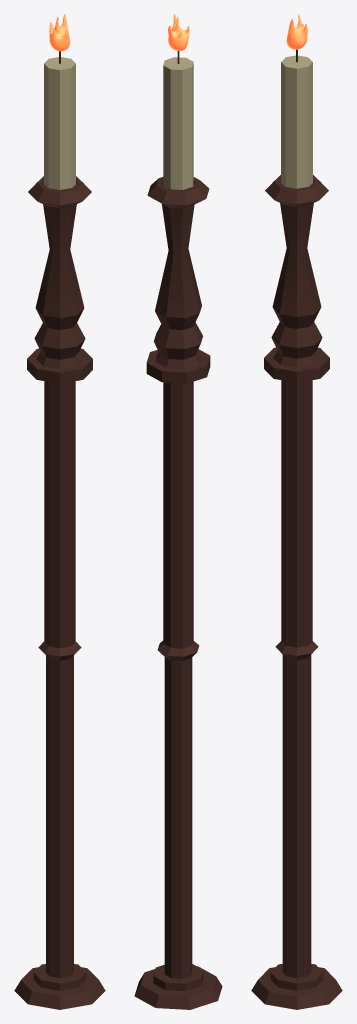
The model's file is Tall Candle .fbx.
3 renders of one model, left to right at view 1: azimuth 90°, elevation 25°; view 2: azimuth 150°, elevation 25°; view 3: azimuth 270°, elevation 25°, orthographic.
Parts seen in each view (by area): view 1: Candelabro grande; view 2: Candelabro grande; view 3: Candelabro grande.
Part boxes in pixels (bbox=[...]): Candelabro grande: bbox=[14, 14, 105, 1009]; Candelabro grande: bbox=[134, 14, 222, 1009]; Candelabro grande: bbox=[251, 14, 342, 1009].
Bounding box in the file's own units: 44.76 × 528 × 44.76.
